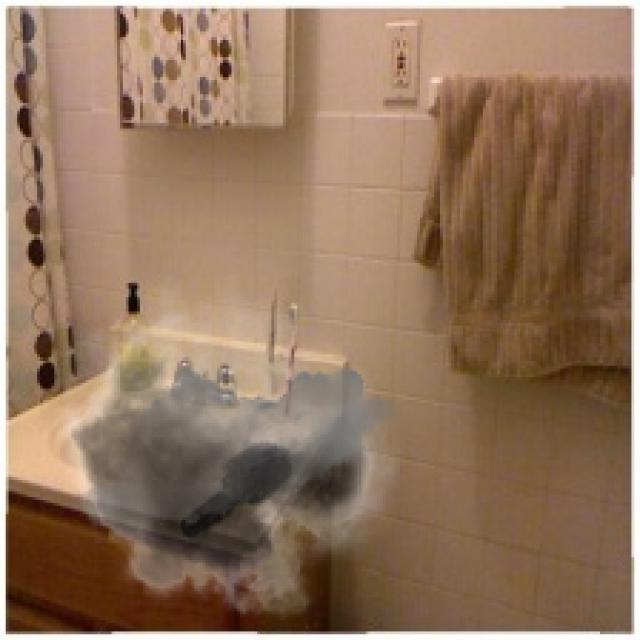smoke: (40, 272, 400, 634)
